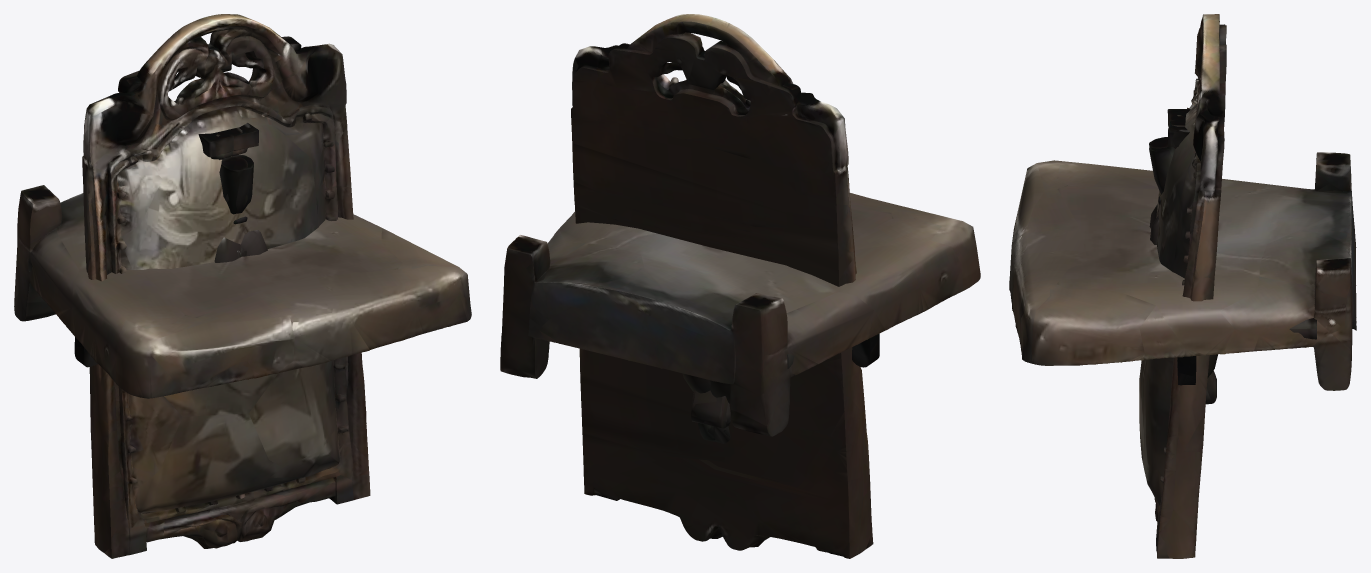
The picture shows the model from 3 angles, left to right: view 1: azimuth 30°, elevation 25°; view 2: azimuth 150°, elevation 25°; view 3: azimuth 270°, elevation 25°; orthographic projection. The views are drawn at different scales.
Visible parts, largest first — view 1: root.0.0, root.1, root.5, root.4, root.7, root.6; view 2: root.0.0, root.1, root.6, root.3, root.5, root.4; view 3: root.1, root.0.0, root.6, root.4, root.3, root.5.
Boxes of the visible parts, <box> form: root.0.0: <box>82,14,370,558</box>; root.1: <box>14,185,471,398</box>; root.5: <box>198,127,267,257</box>; root.4: <box>214,123,258,262</box>; root.7: <box>219,156,247,224</box>; root.6: <box>225,155,253,223</box>; root.0.0: <box>571,14,873,558</box>; root.1: <box>500,193,980,436</box>; root.6: <box>691,389,730,425</box>; root.3: <box>852,333,879,367</box>; root.5: <box>698,380,730,443</box>; root.4: <box>682,373,730,441</box>; root.1: <box>1009,152,1356,390</box>; root.0.0: <box>1139,14,1226,558</box>; root.6: <box>1149,146,1216,404</box>; root.4: <box>1149,115,1217,378</box>; root.3: <box>1177,356,1196,385</box>; root.5: <box>1150,109,1190,244</box>.
Size of the model in its own units: 18041 by 25795 by 16288.
Materials: 1 (1 with a texture image).
